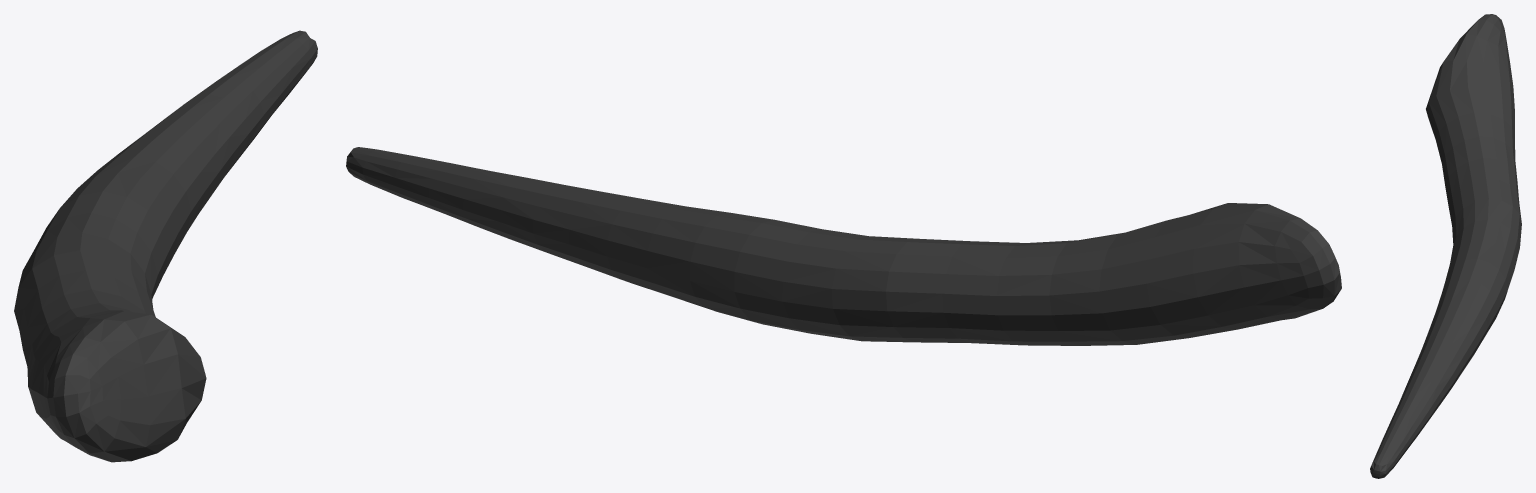
Rendered from NERVE_stapedial_L.glb.
3 views of the same model, side by side, from view 1: azimuth 90°, elevation 25°; view 2: azimuth 150°, elevation 25°; view 3: azimuth 270°, elevation 25° (orthographic). The views are drawn at different scales.
Visible parts, largest first — view 1: NERVE_stapedial_L; view 2: NERVE_stapedial_L; view 3: NERVE_stapedial_L.
Boxes of the visible parts, box(x1,y1,x2,y2) form: NERVE_stapedial_L: box(14, 30, 317, 462); NERVE_stapedial_L: box(346, 147, 1341, 345); NERVE_stapedial_L: box(1370, 14, 1521, 478).
Bounding box in the file's own units: 0.8358 × 0.1994 × 0.1698.
Materials: 1 (1 with a texture image).
